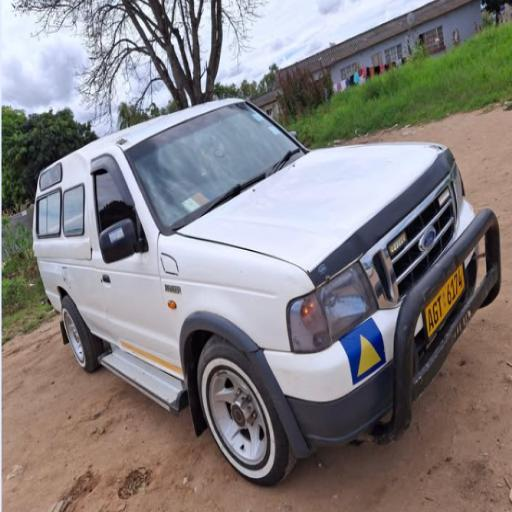number-plates: (423, 258, 470, 341)
